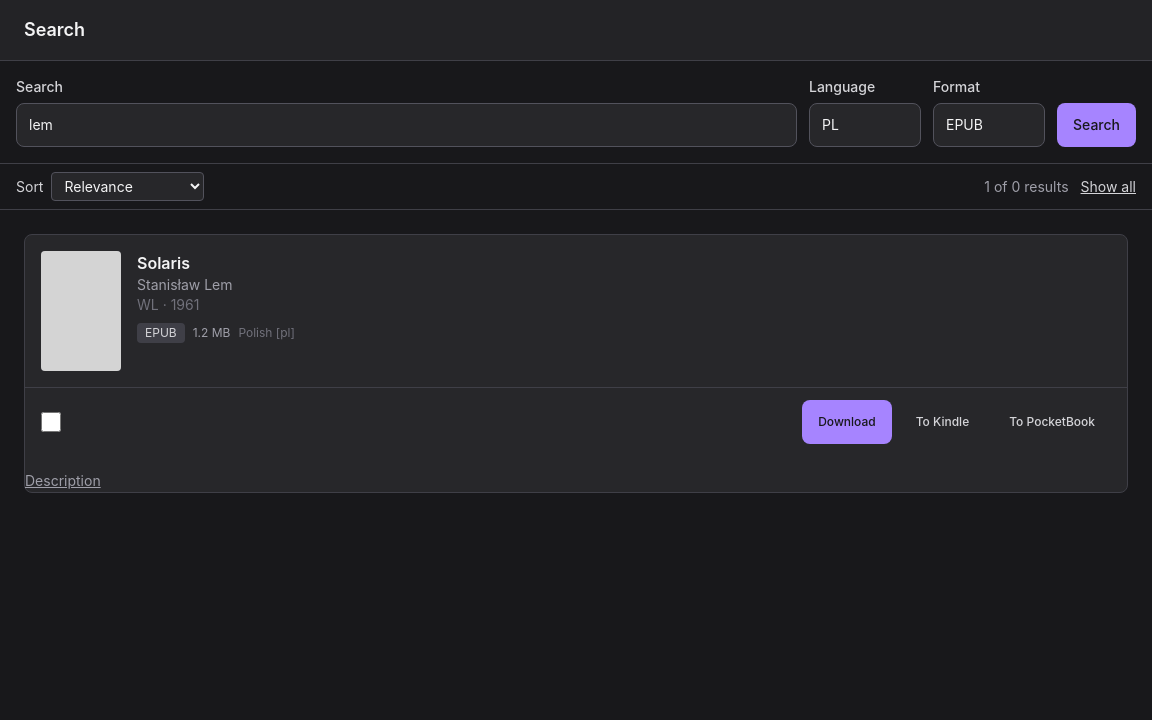
Test: SearchView description › reports a missing description without a second toggle
Click the button with test id "description-toggle".
click(63, 481)  # box [25,471,101,491]
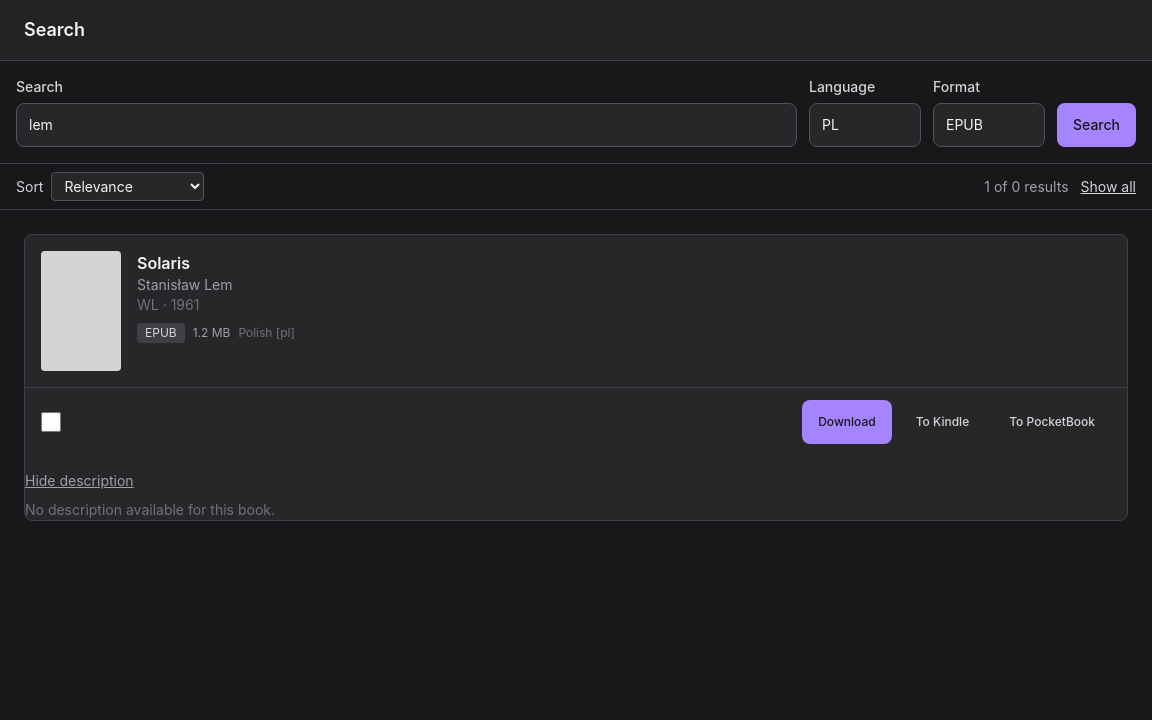
Now the element with test id "description-body" shows "No description", box [25,501,275,518]
